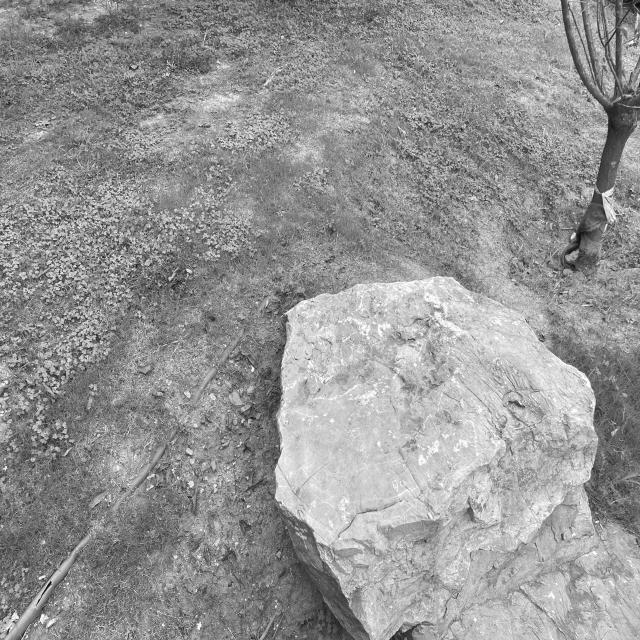Stone: (275, 277, 640, 640)
